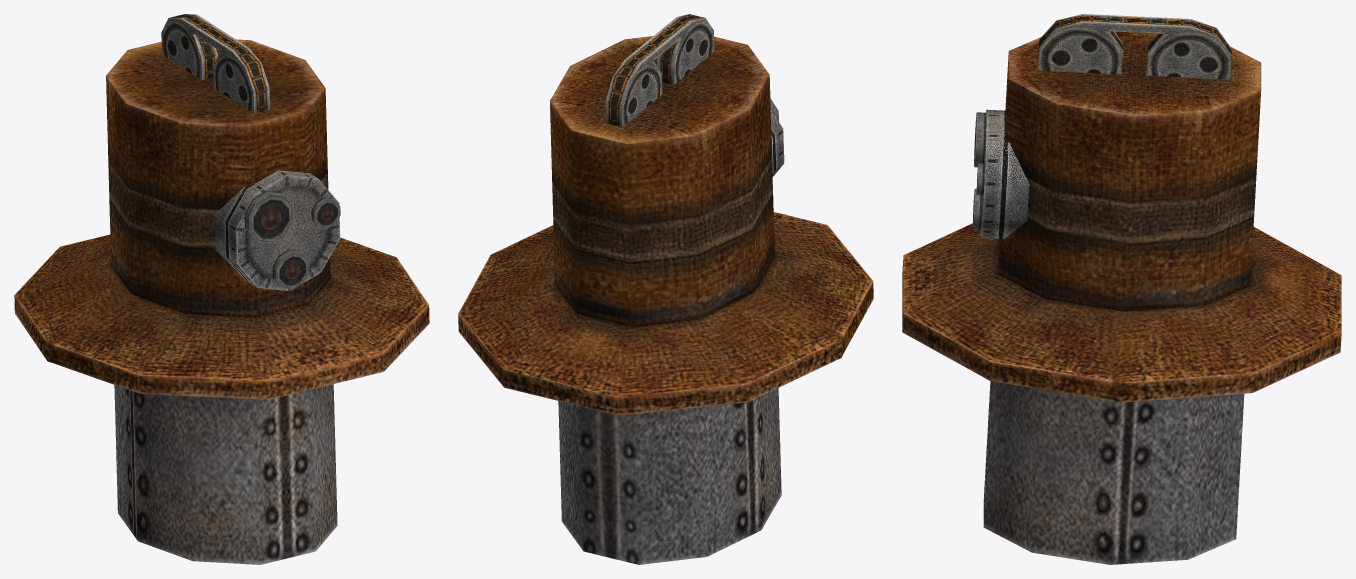
File: HEAD_CHIBI_CAMERA_HAT.fbx
3 views of the same model, side by side, from view 1: azimuth 30°, elevation 25°; view 2: azimuth 150°, elevation 25°; view 3: azimuth 270°, elevation 25° (orthographic). The views are drawn at different scales.
Visible parts, largest first — view 1: head_Camera_Hat; view 2: head_Camera_Hat; view 3: head_Camera_Hat.
Boxes of the visible parts, x1,y1,x2,y2 form: head_Camera_Hat: (14, 14, 429, 564); head_Camera_Hat: (458, 14, 873, 564); head_Camera_Hat: (902, 14, 1341, 564).
Size of the model in its own units: 0.0318 by 0.0421 by 0.0331.
